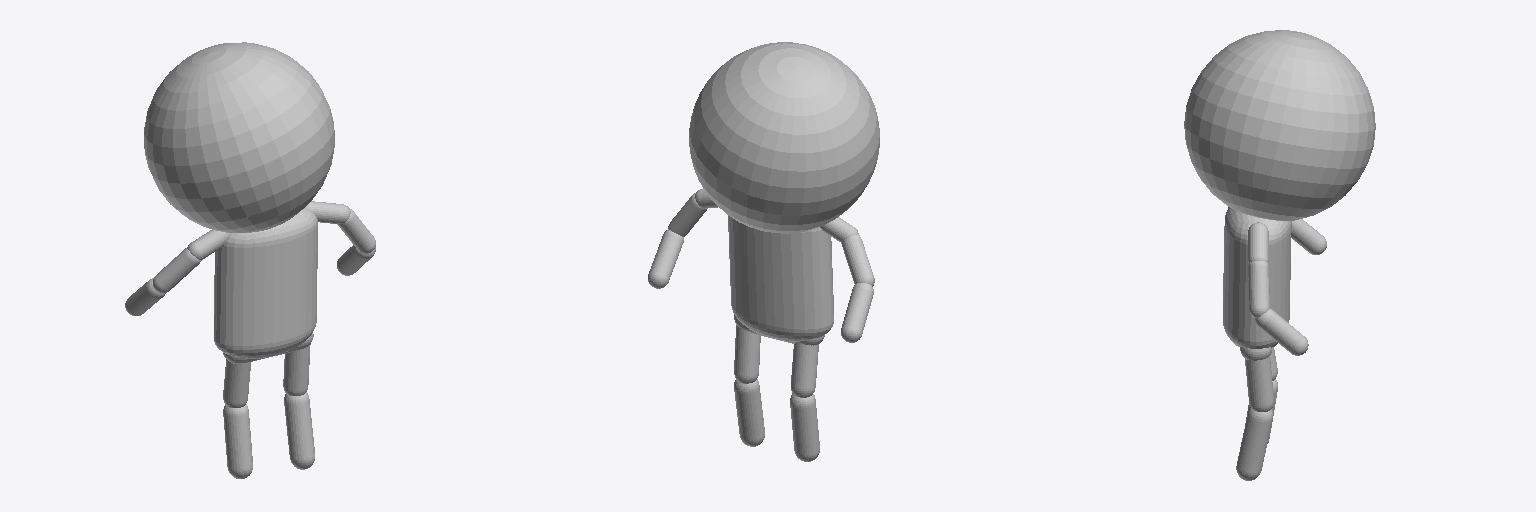
Rendered from Stickman_000068.obj.
The picture shows the model from 3 angles: view 1: azimuth 30°, elevation 25°; view 2: azimuth 150°, elevation 25°; view 3: azimuth 270°, elevation 25°; orthographic projection.
Parts seen in each view (by area): view 1: Head_Sphere.001, Body_Roundcube.002, LowerLegLeft_Roundcube.013, LowerLegRight_Roundcube.011, UpperLegLeft_Roundcube.012, UpperLegRight_Roundcube.010, UpperArmRight_Roundcube.015, UpperArmLeft_Roundcube.018, LowerArmRight_Roundcube.016, ShoulderLeft_Roundcube.017, ShoulderRight_Roundcube.014, LowerArmLeft_Roundcube.019; view 2: Head_Sphere.001, Body_Roundcube.002, LowerLegRight_Roundcube.011, LowerLegLeft_Roundcube.013, UpperLegRight_Roundcube.010, UpperLegLeft_Roundcube.012, LowerArmRight_Roundcube.016, LowerArmLeft_Roundcube.019, UpperArmRight_Roundcube.015, UpperArmLeft_Roundcube.018, ShoulderRight_Roundcube.014; view 3: Head_Sphere.001, Body_Roundcube.002, LowerLegLeft_Roundcube.013, UpperLegLeft_Roundcube.012, LowerArmLeft_Roundcube.019, UpperArmLeft_Roundcube.018, LowerArmRight_Roundcube.016, ShoulderLeft_Roundcube.017.
Boxes of the visible parts, x1=… form: Head_Sphere.001: x1=144, y1=42, x2=334, y2=232; Body_Roundcube.002: x1=214, y1=208, x2=317, y2=358; LowerLegLeft_Roundcube.013: x1=284, y1=392, x2=314, y2=469; LowerLegRight_Roundcube.011: x1=223, y1=404, x2=252, y2=478; UpperLegLeft_Roundcube.012: x1=283, y1=344, x2=310, y2=395; UpperLegRight_Roundcube.010: x1=223, y1=359, x2=250, y2=407; UpperArmRight_Roundcube.015: x1=153, y1=248, x2=201, y2=292; UpperArmLeft_Roundcube.018: x1=337, y1=208, x2=375, y2=253; LowerArmRight_Roundcube.016: x1=125, y1=278, x2=165, y2=315; ShoulderLeft_Roundcube.017: x1=305, y1=201, x2=350, y2=223; ShoulderRight_Roundcube.014: x1=187, y1=229, x2=230, y2=259; LowerArmLeft_Roundcube.019: x1=337, y1=245, x2=375, y2=275; Head_Sphere.001: x1=689, y1=42, x2=879, y2=233; Body_Roundcube.002: x1=728, y1=215, x2=833, y2=341; LowerLegRight_Roundcube.011: x1=790, y1=393, x2=819, y2=461; LowerLegLeft_Roundcube.013: x1=734, y1=379, x2=764, y2=446; UpperLegRight_Roundcube.010: x1=791, y1=343, x2=818, y2=397; UpperLegLeft_Roundcube.012: x1=734, y1=325, x2=760, y2=383; LowerArmRight_Roundcube.016: x1=841, y1=283, x2=873, y2=342; LowerArmLeft_Roundcube.019: x1=648, y1=229, x2=683, y2=288; UpperArmRight_Roundcube.015: x1=841, y1=234, x2=874, y2=286; UpperArmLeft_Roundcube.018: x1=668, y1=193, x2=706, y2=236; ShoulderRight_Roundcube.014: x1=820, y1=217, x2=858, y2=242; Head_Sphere.001: x1=1184, y1=30, x2=1375, y2=220; Body_Roundcube.002: x1=1223, y1=207, x2=1291, y2=348; LowerLegLeft_Roundcube.013: x1=1236, y1=408, x2=1272, y2=480; UpperLegLeft_Roundcube.012: x1=1245, y1=356, x2=1273, y2=411; LowerArmLeft_Roundcube.019: x1=1255, y1=309, x2=1308, y2=355; UpperArmLeft_Roundcube.018: x1=1248, y1=261, x2=1269, y2=317; LowerArmRight_Roundcube.016: x1=1291, y1=219, x2=1326, y2=254; ShoulderLeft_Roundcube.017: x1=1248, y1=222, x2=1268, y2=262.
Bounding box in the file's own units: 7.08 × 12.71 × 5.29.